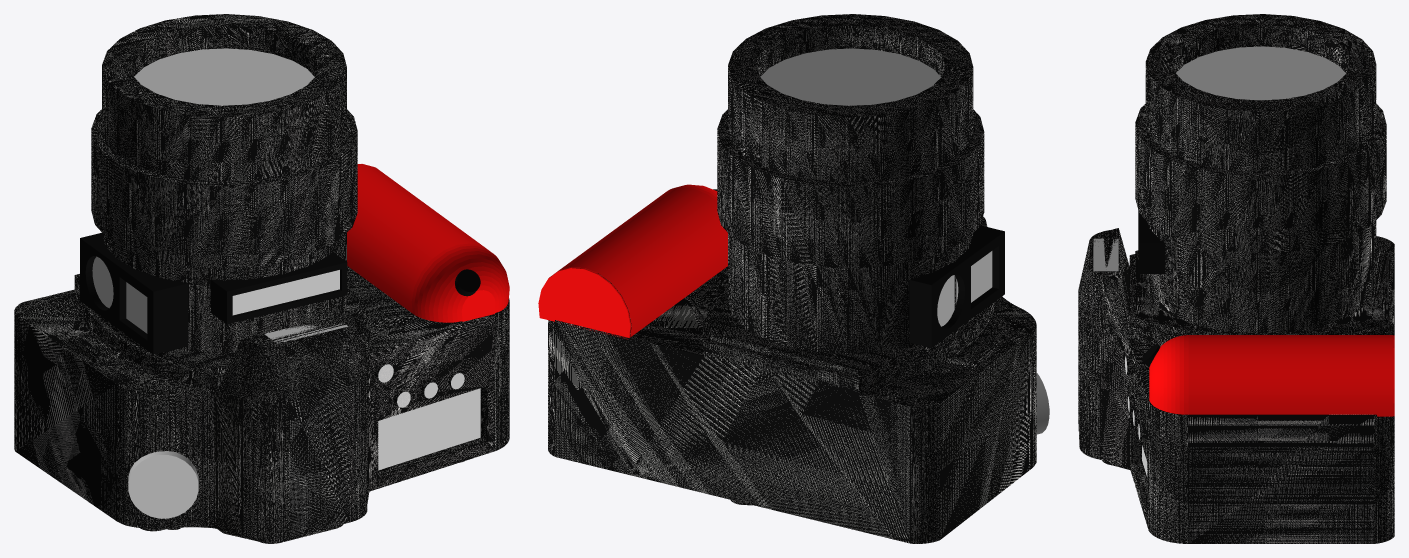
Rendered from model_scale.obj.
The picture shows the model from 3 angles, left to right: view 1: azimuth 30°, elevation 25°; view 2: azimuth 150°, elevation 25°; view 3: azimuth 270°, elevation 25°; orthographic projection. The views are drawn at different scales.
Parts seen in each view (by area): view 1: mesh33_mesh33-geometry, mesh35_mesh35-geometry, mesh4_mesh4-geometry, mesh27_mesh27-geometry, mesh24_mesh24-geometry, mesh21_mesh21-geometry, mesh36_mesh36-geometry; view 2: mesh33_mesh33-geometry, mesh35_mesh35-geometry, mesh4_mesh4-geometry, mesh27_mesh27-geometry, mesh5_mesh5-geometry, mesh21_mesh21-geometry; view 3: mesh35_mesh35-geometry, mesh33_mesh33-geometry, mesh4_mesh4-geometry, mesh24_mesh24-geometry, mesh36_mesh36-geometry.
Boxes of the visible parts, x1,y1,x2,y2 form: mesh33_mesh33-geometry: (14,266,509,543); mesh35_mesh35-geometry: (91,14,357,353); mesh4_mesh4-geometry: (347,164,509,322); mesh27_mesh27-geometry: (80,232,188,354); mesh24_mesh24-geometry: (210,252,347,324); mesh21_mesh21-geometry: (128,451,198,518); mesh36_mesh36-geometry: (264,323,348,343); mesh33_mesh33-geometry: (548,216,1036,543); mesh35_mesh35-geometry: (717,14,984,353); mesh4_mesh4-geometry: (548,184,727,337); mesh27_mesh27-geometry: (909,225,1004,347); mesh5_mesh5-geometry: (538,267,631,339); mesh21_mesh21-geometry: (1036,373,1049,434); mesh35_mesh35-geometry: (1135,14,1386,333); mesh33_mesh33-geometry: (1078,228,1394,543); mesh4_mesh4-geometry: (1149,335,1392,416); mesh24_mesh24-geometry: (1138,211,1165,273); mesh36_mesh36-geometry: (1093,238,1118,271).
Bounding box in the file's own units: 0.1378 × 0.1381 × 0.1026.
